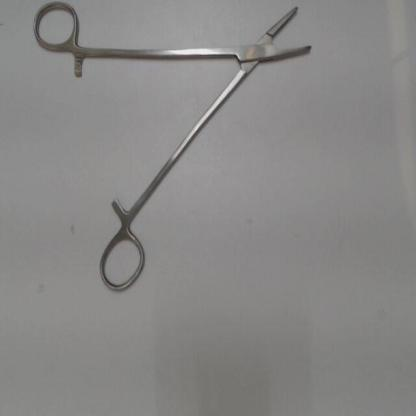8 Mayo Needle Holder: (25, 0, 326, 299)
